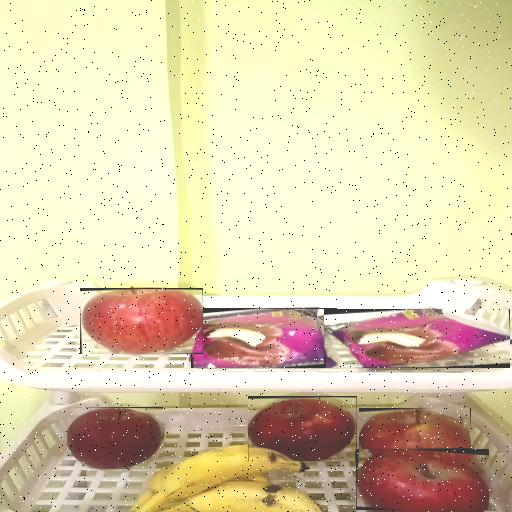Apple: (80, 288, 203, 354), (356, 449, 489, 510), (248, 396, 357, 461), (68, 407, 164, 469), (359, 408, 471, 459)
Choco Pie: (324, 309, 510, 368), (191, 308, 337, 368)
